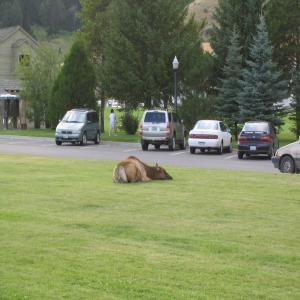Vehicle-registration-plate: (200, 143, 206, 148), (251, 146, 257, 151), (64, 135, 69, 139)
